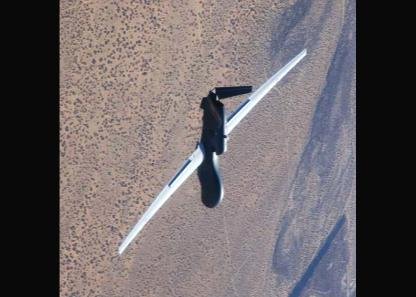P3: (118, 45, 308, 254)
